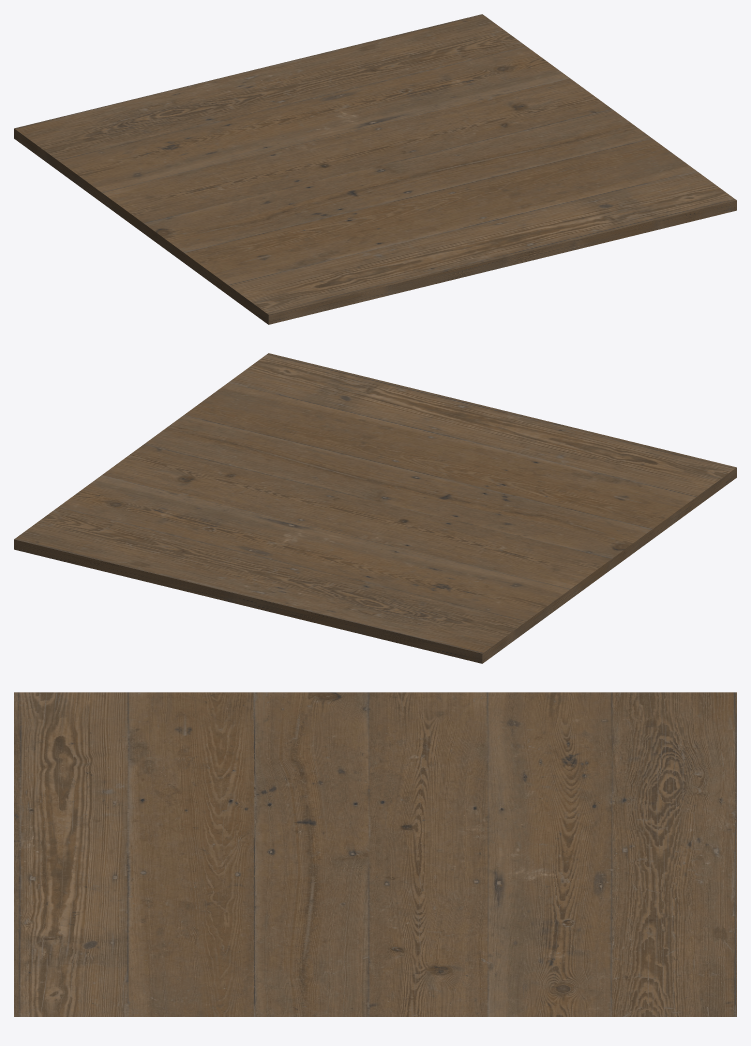
File: SM_Floor03G.fbx
3 renders of one model, top to bottom at view 1: azimuth 30°, elevation 25°; view 2: azimuth 150°, elevation 25°; view 3: azimuth 270°, elevation 25°, orthographic. The views are drawn at different scales.
Parts seen in each view (by area): view 1: SM_Floor03G; view 2: SM_Floor03G; view 3: SM_Floor03G.
Boxes of the visible parts, bbox=[...] form: SM_Floor03G: bbox=[14, 14, 736, 324]; SM_Floor03G: bbox=[14, 353, 736, 663]; SM_Floor03G: bbox=[14, 692, 736, 1016].
Bounding box in the file's own units: 262 × 246 × 5.43.
